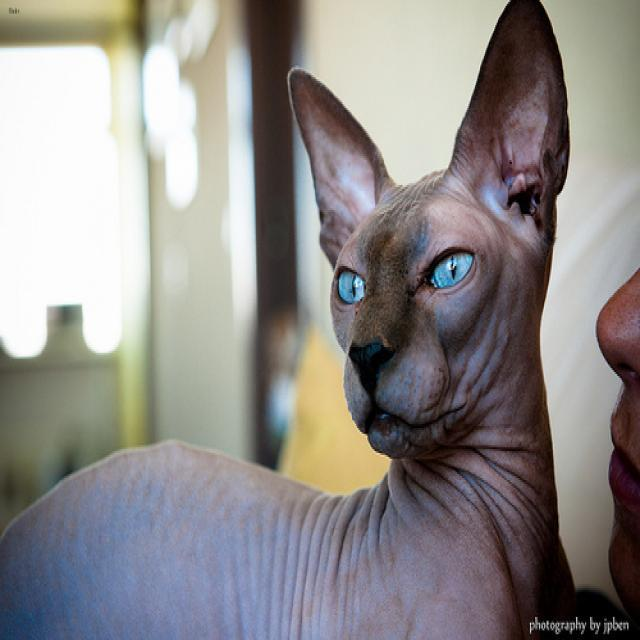Sphynx: (284, 0, 573, 461)
